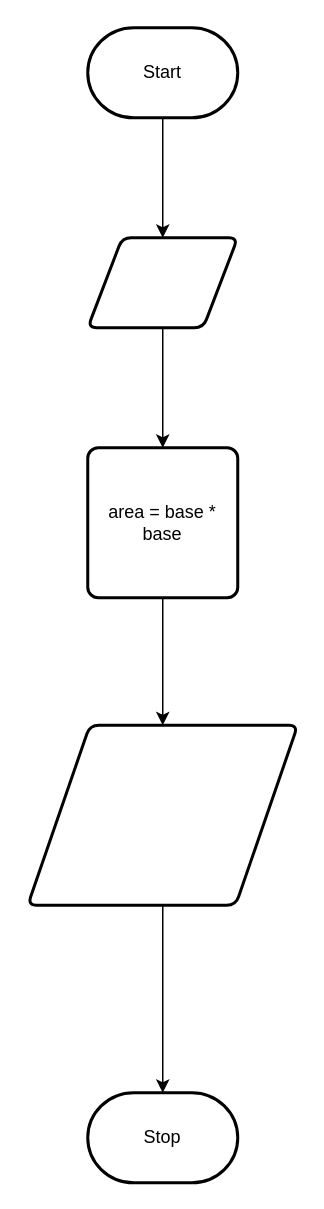
Image size: 324x1209. Some labels were removed from this diagram. The centre of each missing label's shape, as x and y in pixels:
Enter a base: the point at 162,282
print "The area is {} cm ²: the point at 162,814
